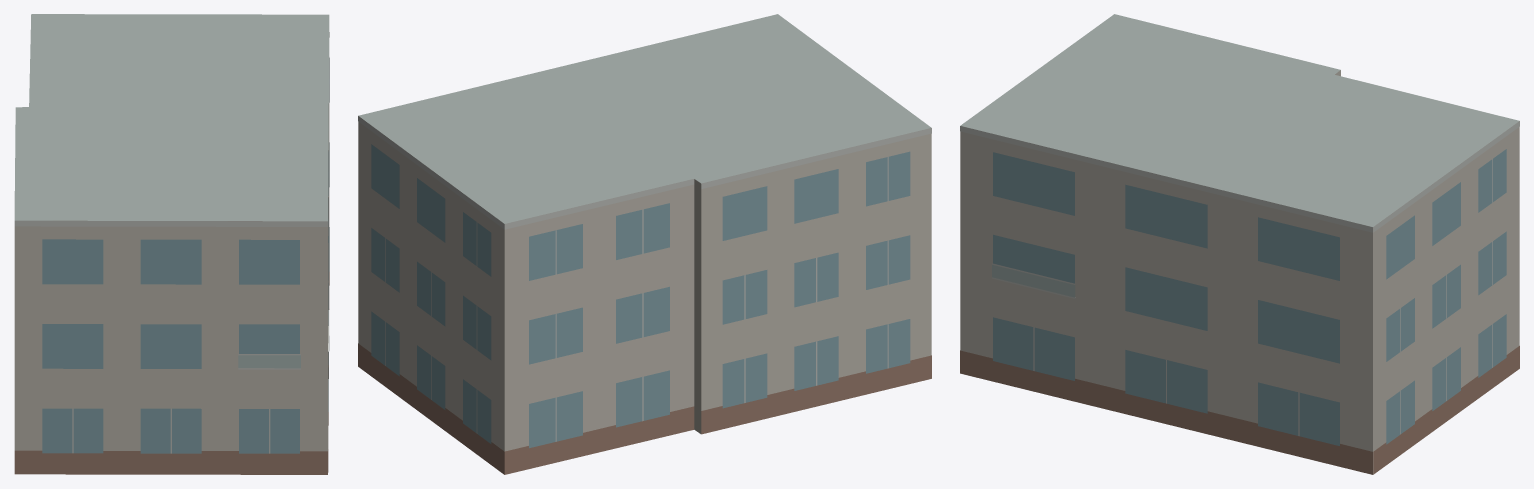
The model's file is survey-upis-32737347.glb.
3 renders of one model, left to right at view 1: azimuth 30°, elevation 25°; view 2: azimuth 150°, elevation 25°; view 3: azimuth 270°, elevation 25°, orthographic. The views are drawn at different scales.
Parts seen in each view (by area): view 1: survey-upis-32737347.tmp; view 2: survey-upis-32737347.tmp; view 3: survey-upis-32737347.tmp.
Boxes of the visible parts, x1,y1,x2,y2 form: survey-upis-32737347.tmp: [14, 14, 329, 474]; survey-upis-32737347.tmp: [358, 14, 931, 474]; survey-upis-32737347.tmp: [960, 14, 1519, 474].
Size of the model in its own units: 19.76 by 10.7 by 21.92.
